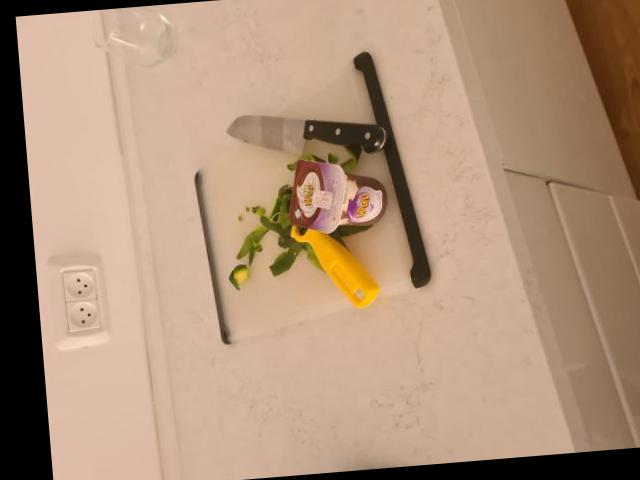milky: (281, 158, 388, 239)
